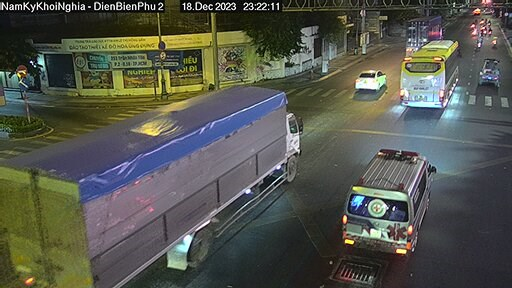car: (345, 138, 439, 250), (403, 35, 464, 113), (353, 68, 380, 100)
truck: (12, 81, 302, 281), (410, 12, 446, 48), (475, 51, 500, 95)
